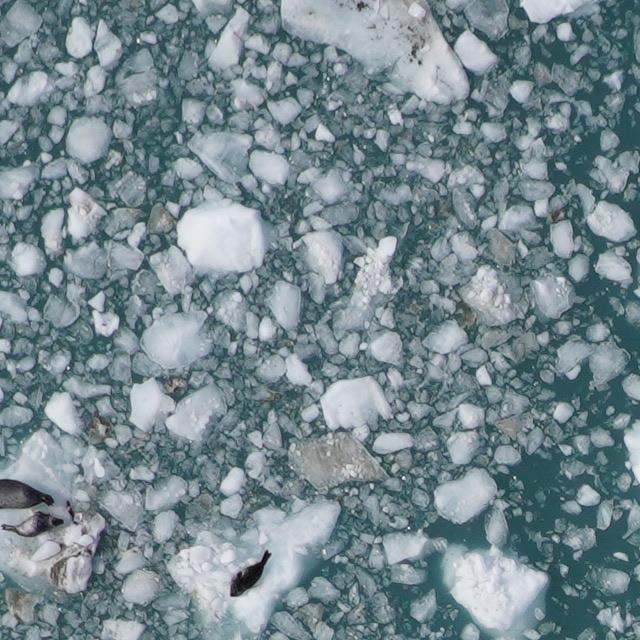seal: (219, 546, 281, 602), (0, 502, 66, 546), (0, 480, 54, 508)
